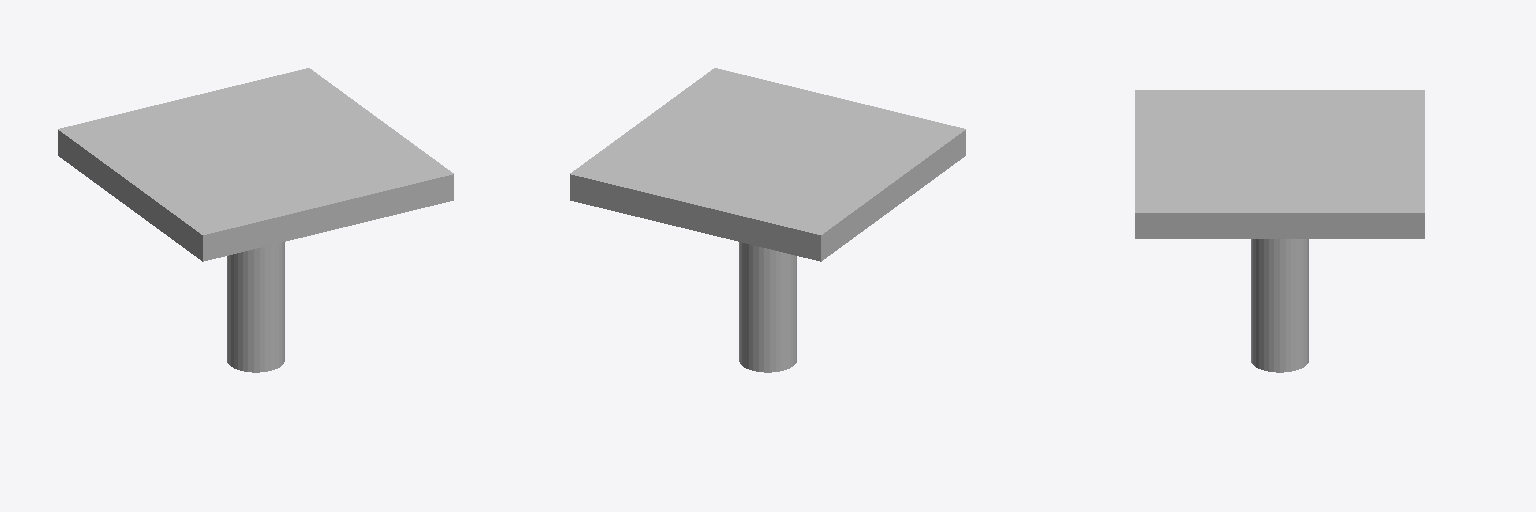
The model's file is desk.obj.
3 renders of one model, left to right at view 1: azimuth 30°, elevation 25°; view 2: azimuth 150°, elevation 25°; view 3: azimuth 270°, elevation 25°, orthographic.
Visible parts, largest first — view 1: Cube_Cube.001, Cylinder; view 2: Cube_Cube.001, Cylinder; view 3: Cube_Cube.001, Cylinder.
Boxes of the visible parts, <box> form: Cube_Cube.001: <box>58,68,453,261</box>; Cylinder: <box>227,242,284,372</box>; Cube_Cube.001: <box>570,68,965,261</box>; Cylinder: <box>739,242,796,372</box>; Cube_Cube.001: <box>1135,90,1424,238</box>; Cylinder: <box>1251,239,1308,372</box>.
Bounding box in the file's own units: 2 × 1.59 × 2.